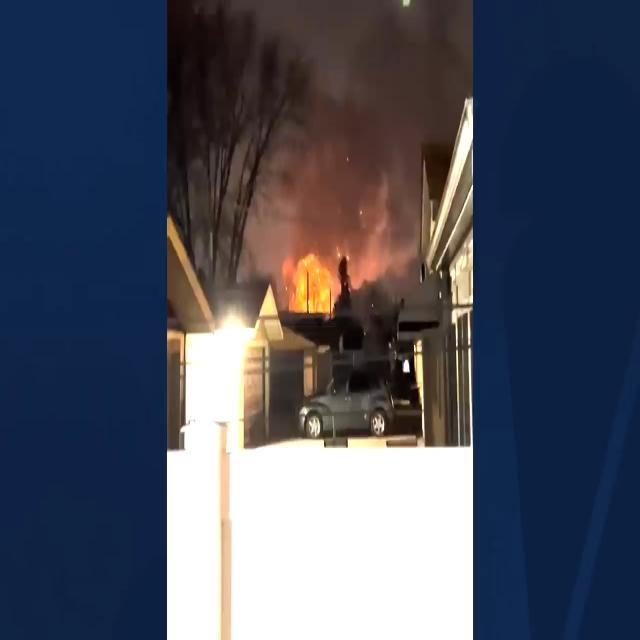fire: (278, 242, 338, 312)
